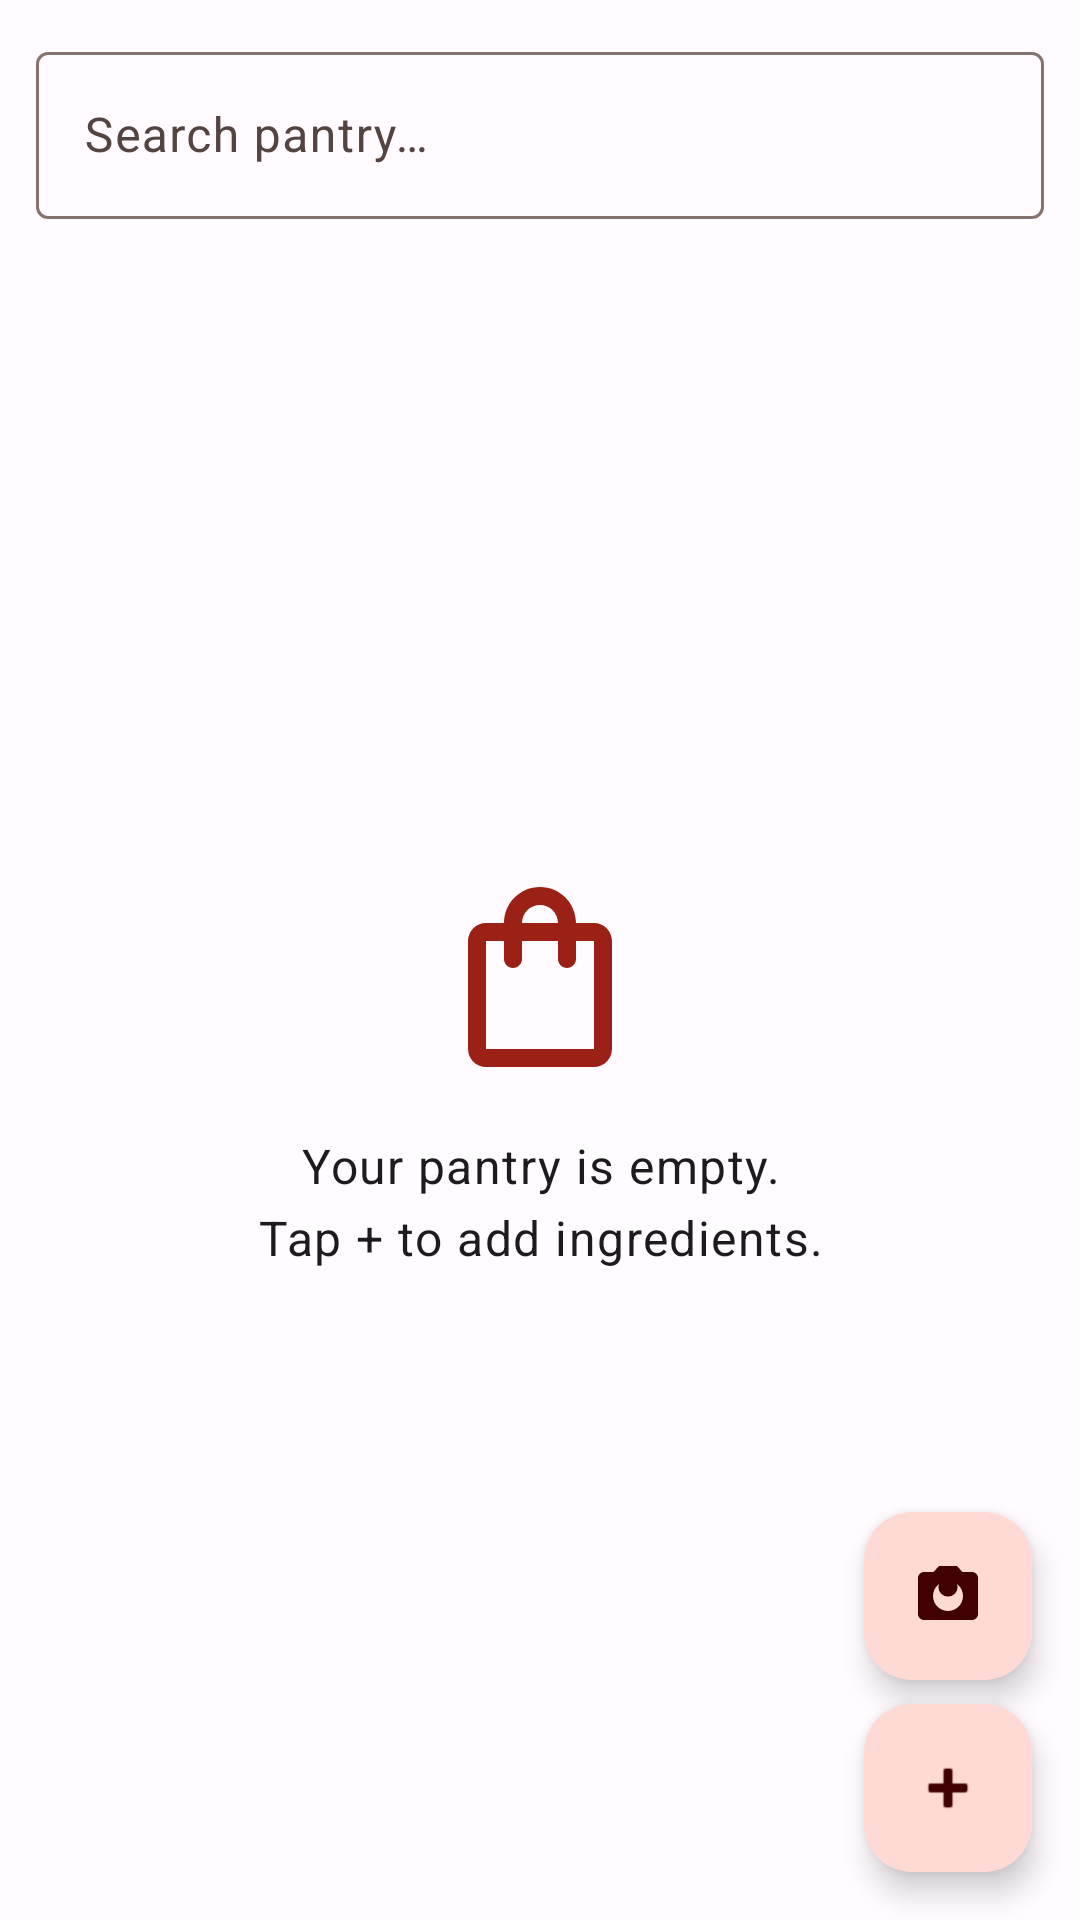

Icon click points for this 1080 x 1920 phone screenshot, format point (x, y):
Add ingredient: point (948, 1788)
Scan receipt: point (948, 1596)
